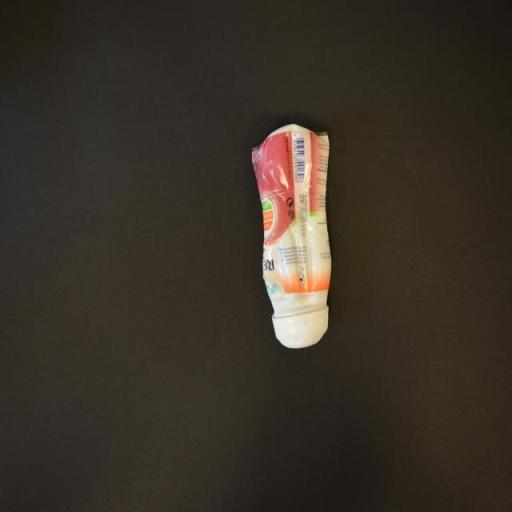plastic: (251, 122, 335, 352)
